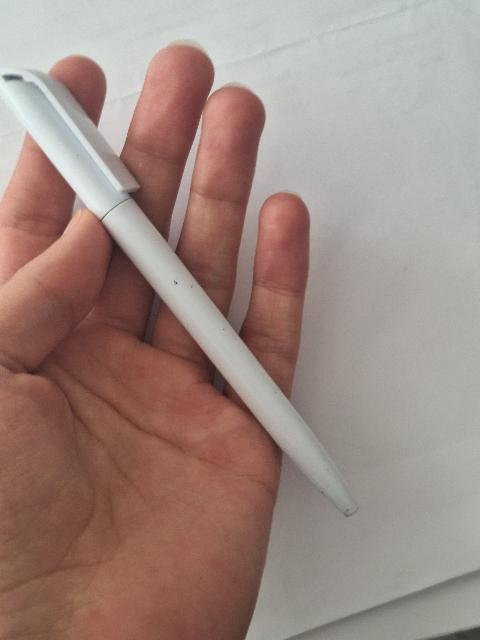writing_tool: (2, 63, 363, 520)
